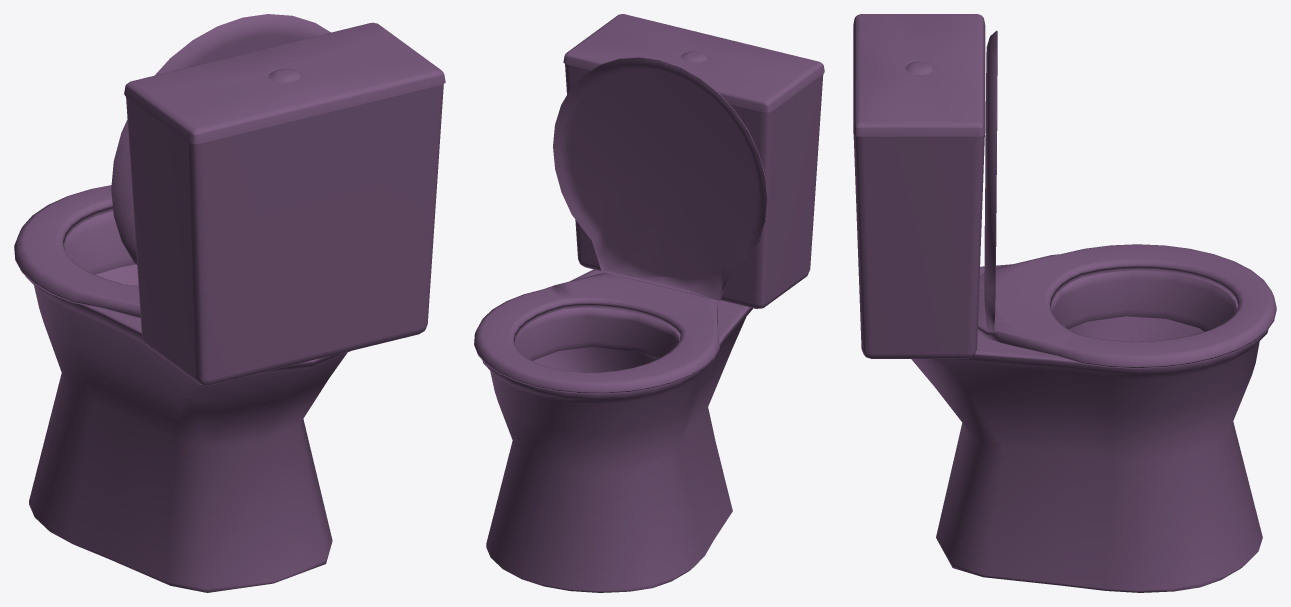
File: mesh_toliet.fbx
3 renders of one model, left to right at view 1: azimuth 30°, elevation 25°; view 2: azimuth 150°, elevation 25°; view 3: azimuth 270°, elevation 25°, orthographic. The views are drawn at different scales.
Visible parts, largest first — view 1: toilet; view 2: toilet; view 3: toilet.
Part boxes in pixels (box(x1,y1,x2,y2)): toilet: box(14, 14, 445, 592); toilet: box(474, 14, 824, 592); toilet: box(853, 14, 1276, 592).
Bounding box in the file's own units: 52.51 × 103 × 79.47.
